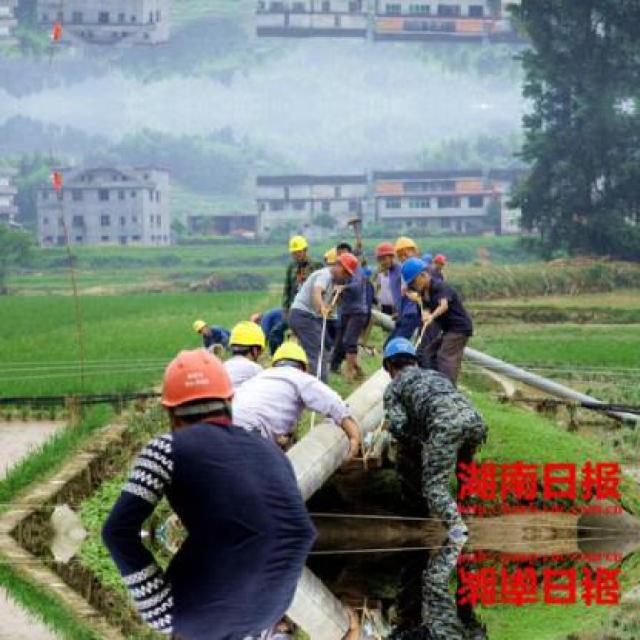helmet: (156, 346, 232, 436), (228, 318, 264, 368), (271, 338, 311, 379), (382, 335, 418, 379), (398, 253, 427, 290), (392, 233, 418, 264), (287, 235, 313, 263), (331, 250, 355, 278), (374, 240, 394, 270), (191, 315, 209, 337)
